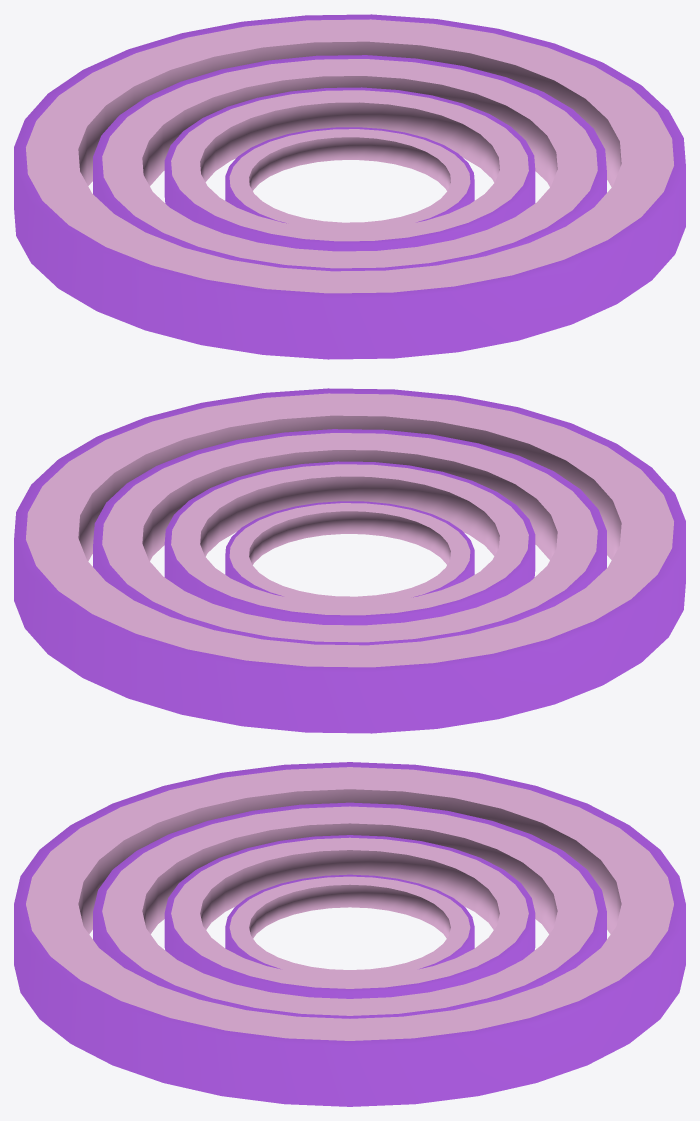
The model's file is onion.glb.
3 renders of one model, top to bottom at view 1: azimuth 30°, elevation 25°; view 2: azimuth 150°, elevation 25°; view 3: azimuth 270°, elevation 25°, orthographic.
Parts seen in each view (by area): view 1: Cylinder.003; view 2: Cylinder.003; view 3: Cylinder.003.
Boxes of the visible parts, x1=… form: Cylinder.003: x1=14, y1=14, x2=685, y2=359; Cylinder.003: x1=14, y1=388, x2=685, y2=733; Cylinder.003: x1=14, y1=762, x2=685, y2=1106.
Bounding box in the file's own units: 2 × 0.2 × 2.
